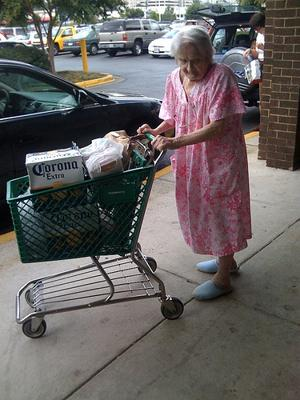person: (138, 26, 253, 304)
